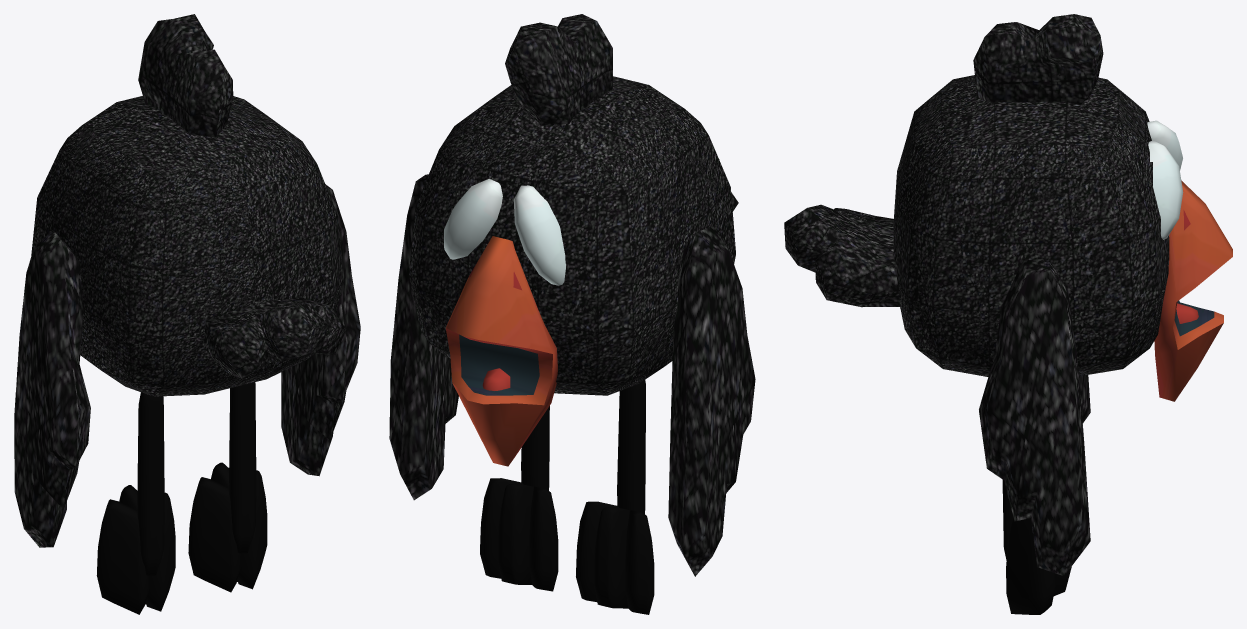
File: Chicken Gun Tall Chicken.glb
3 renders of one model, left to right at view 1: azimuth 30°, elevation 25°; view 2: azimuth 150°, elevation 25°; view 3: azimuth 270°, elevation 25°, orthographic. The views are drawn at different scales.
Visible parts, largest first — view 1: Object_4, Object_3; view 2: Object_4, Object_2, Object_3; view 3: Object_4, Object_2, Object_3.
Boxes of the visible parts, x1,y1,x2,y2 form: Object_4: [14, 14, 360, 547]; Object_3: [96, 382, 267, 614]; Object_4: [389, 14, 755, 576]; Object_2: [444, 178, 565, 466]; Object_3: [480, 380, 654, 614]; Object_4: [784, 14, 1169, 575]; Object_2: [1147, 120, 1232, 401]; Object_3: [1002, 480, 1071, 614].
Size of the model in its own units: 5.02 by 8.81 by 6.23.
Materials: 3 (3 with a texture image).
